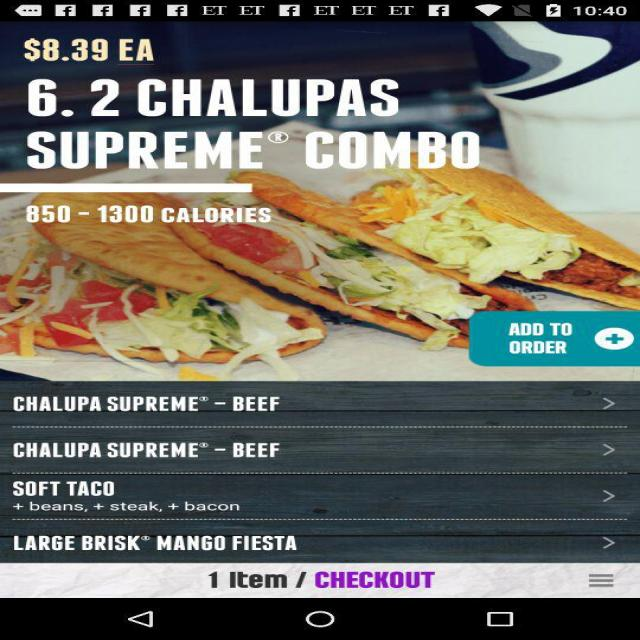button: (1, 474, 640, 522), (3, 427, 640, 469), (1, 382, 639, 423), (3, 524, 640, 564), (473, 311, 640, 366), (308, 567, 454, 596), (568, 567, 634, 596)
image: (0, 19, 639, 381)
text: (7, 76, 509, 180), (6, 530, 351, 558), (10, 479, 269, 516), (14, 198, 290, 230), (7, 390, 304, 417), (8, 437, 312, 462), (9, 32, 182, 65), (193, 567, 296, 594)
